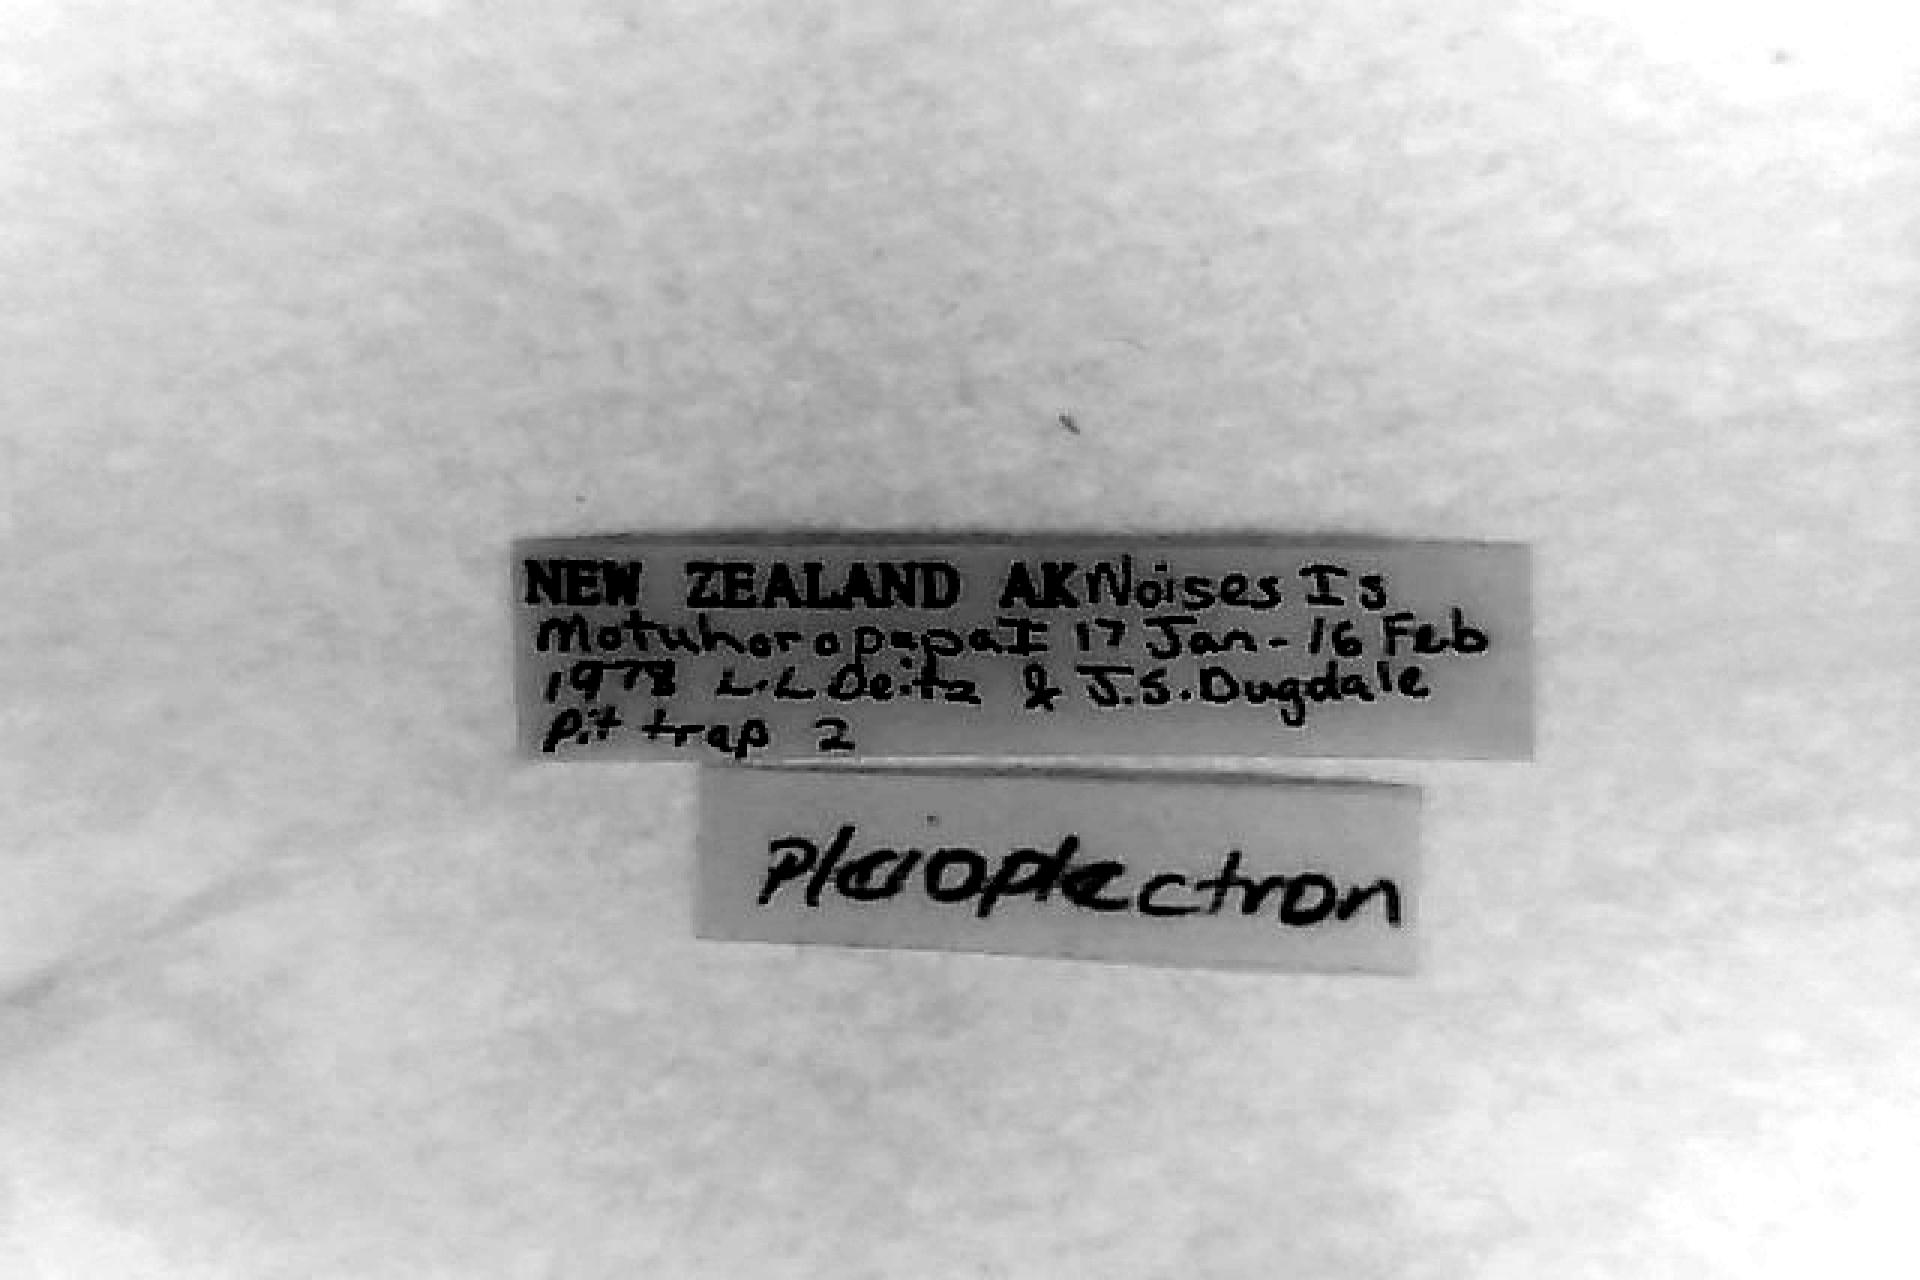hand_label: (701, 767, 1416, 971)
mixed_label: (514, 537, 1530, 759)
